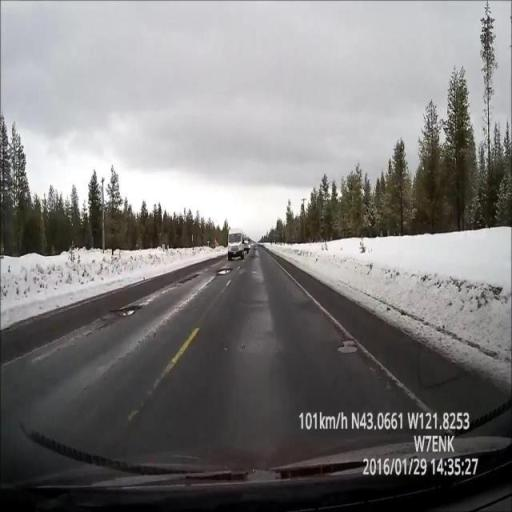pothole: (119, 309, 135, 317), (217, 269, 232, 275)
